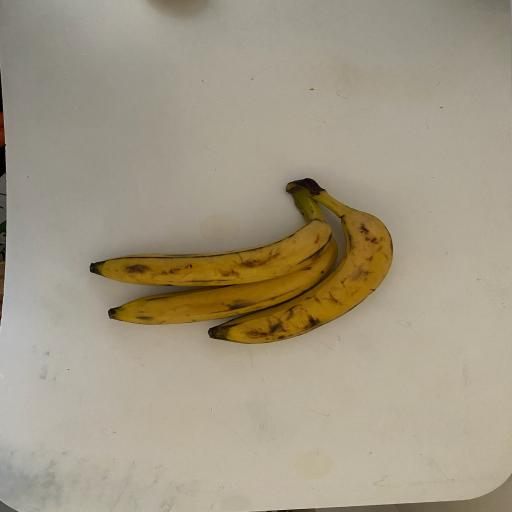banana: (102, 164, 370, 348), (186, 173, 448, 360), (72, 171, 371, 296)
